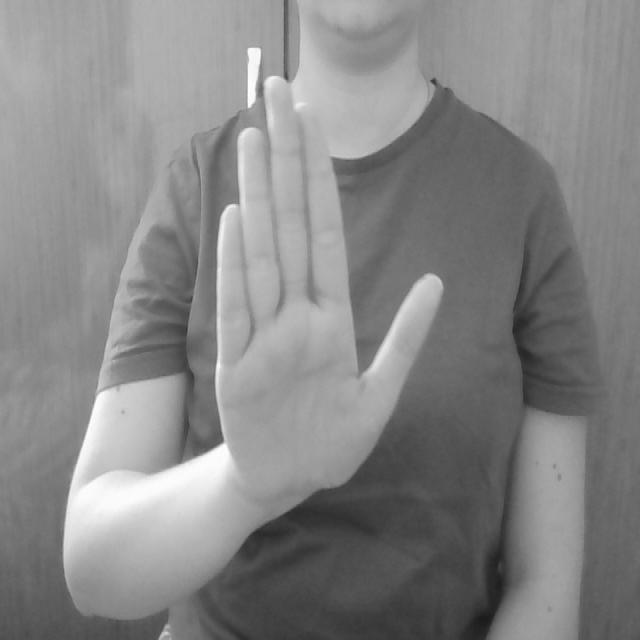Dur: (158, 61, 444, 483)
